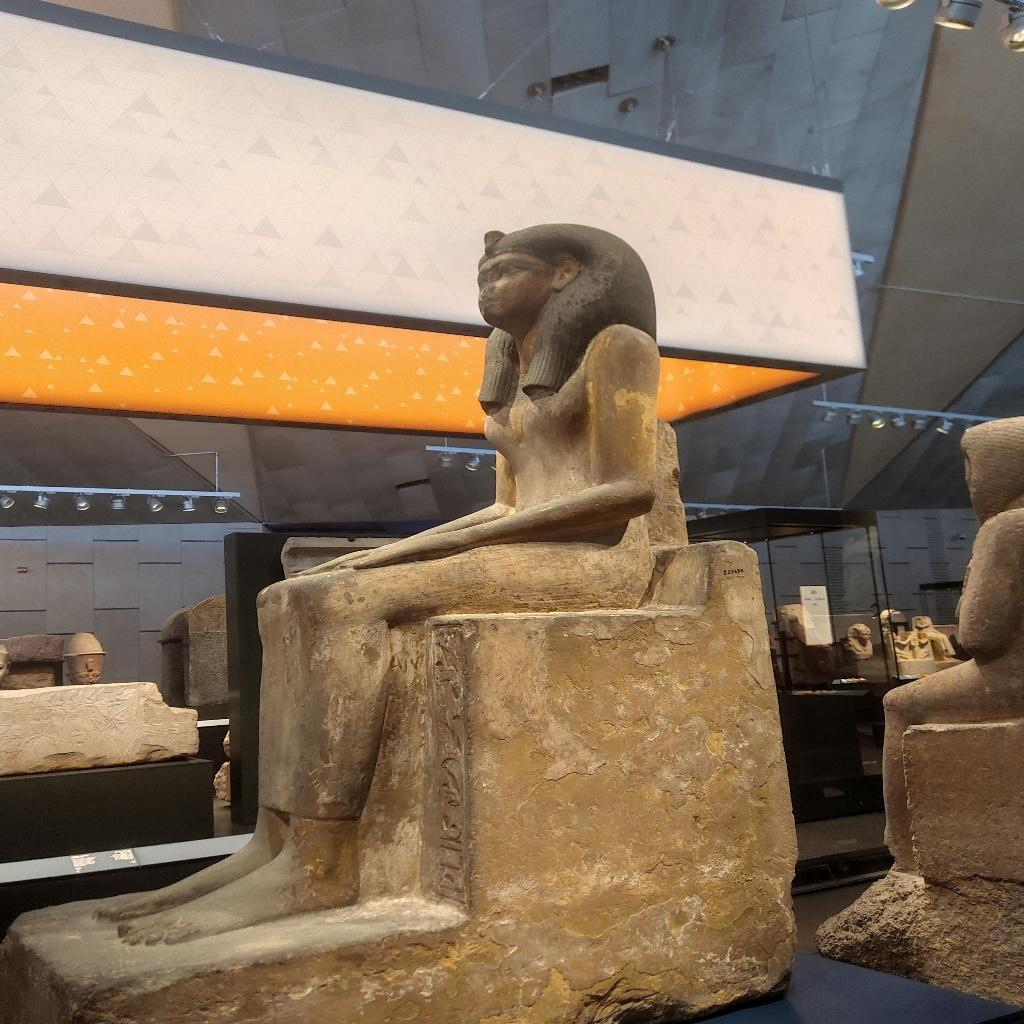Statue of Queen Metnoforet: (99, 222, 776, 976)
